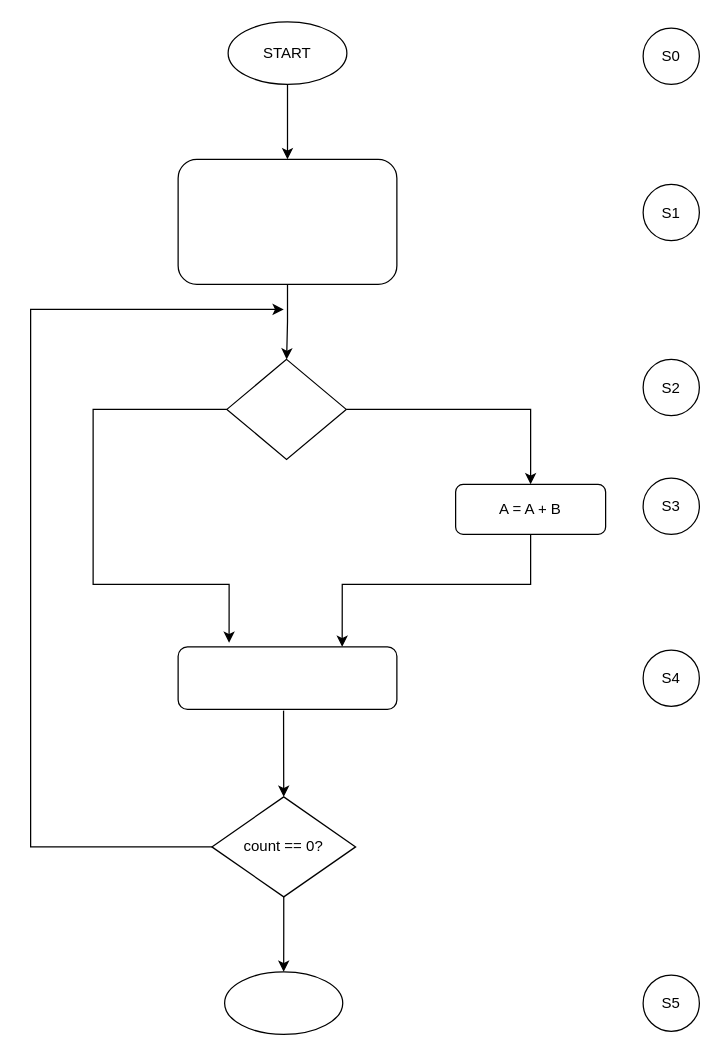
This 721x1056 diagram has some shape labels left out. The shapes that lost their labels are listed below. From the top down, each one's box as (x1, y1, x2, y2) in pixels, then its label:
(177, 158, 397, 284): B = bin Q = ain A= 0 Count = 4
(226, 358, 346, 459): Q0 == 1
(177, 646, 397, 709): AQ >> 1 count = count - 1
(223, 971, 343, 1034): STOP
